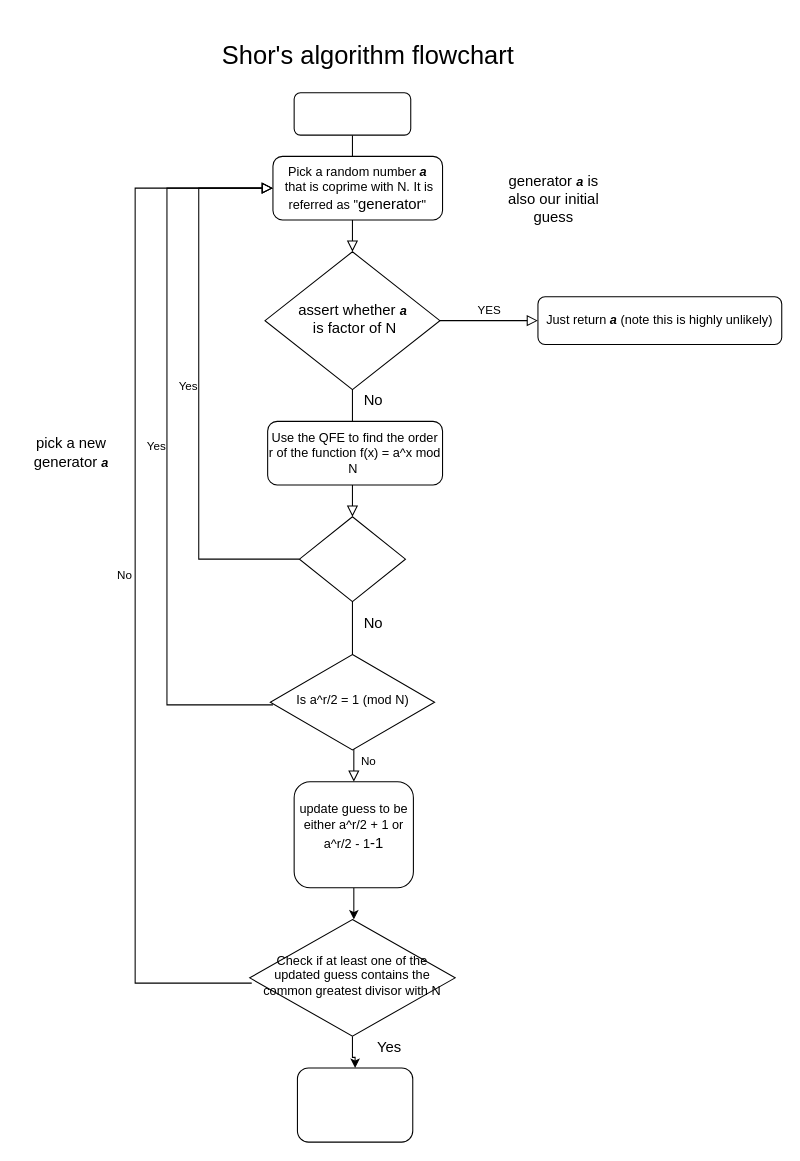
This 800x1161 diagram has some shape labels left out. Each missing label, with the box of its shape:
Factor a non-prime number N: (293, 92, 411, 135)
Is r odd?: (298, 516, 405, 602)
Return updated guess: (296, 1067, 413, 1142)
